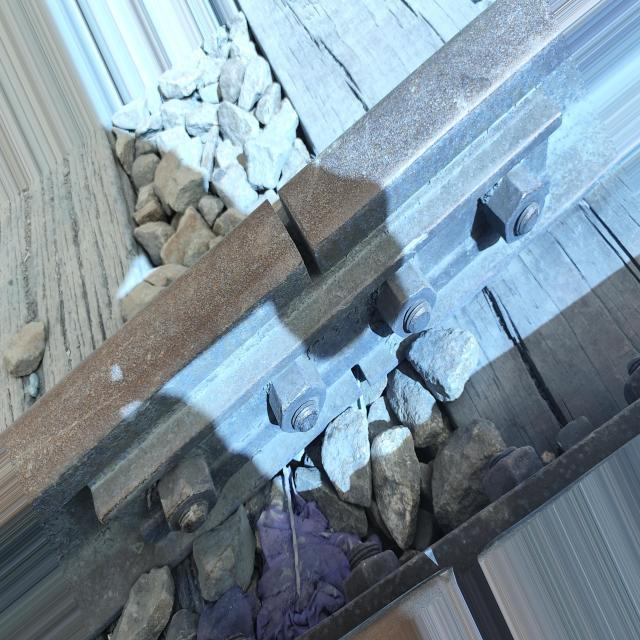Good Joint: (89, 60, 618, 541)
